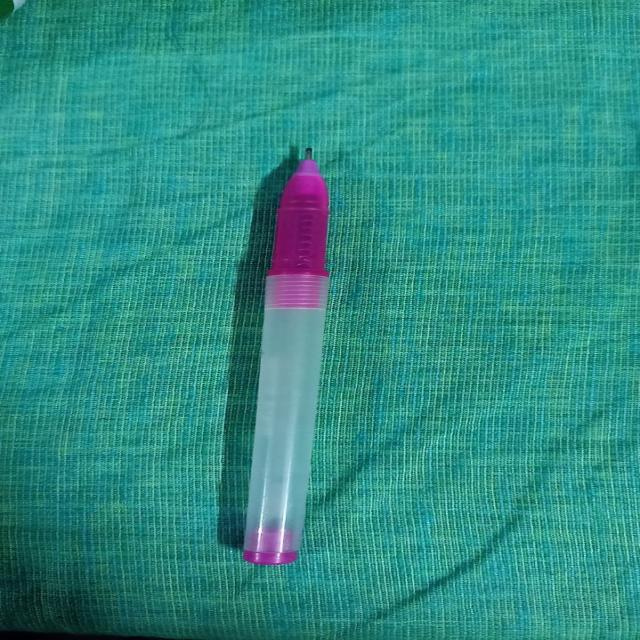pen: (214, 138, 355, 576)
